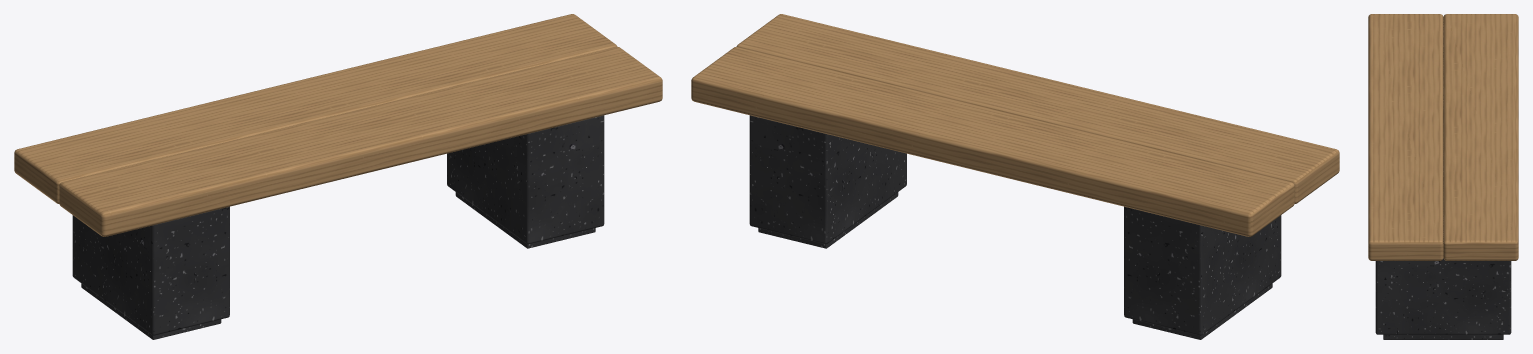
The model's file is garden_bench.glb.
3 views of the same model, side by side, from view 1: azimuth 30°, elevation 25°; view 2: azimuth 150°, elevation 25°; view 3: azimuth 270°, elevation 25° (orthographic). The views are drawn at different scales.
Parts seen in each view (by area): view 1: part_seat_LOD0, part_plinth_r_LOD0, part_plinth_l_LOD0; view 2: part_seat_LOD0, part_plinth_r_LOD0, part_plinth_l_LOD0; view 3: part_seat_LOD0, part_plinth_l_LOD0.
Part boxes in pixels (x1,y1,x2,y2): part_seat_LOD0: (14,14,662,236); part_plinth_r_LOD0: (72,206,229,339); part_plinth_l_LOD0: (447,115,604,248); part_seat_LOD0: (691,14,1339,236); part_plinth_r_LOD0: (1124,206,1281,339); part_plinth_l_LOD0: (749,115,906,248); part_seat_LOD0: (1368,14,1518,260); part_plinth_l_LOD0: (1375,258,1511,339).
Size of what is drawn, in the model's own units: 1.8 by 0.45 by 0.5.
Materials: 4 (4 with a texture image).
